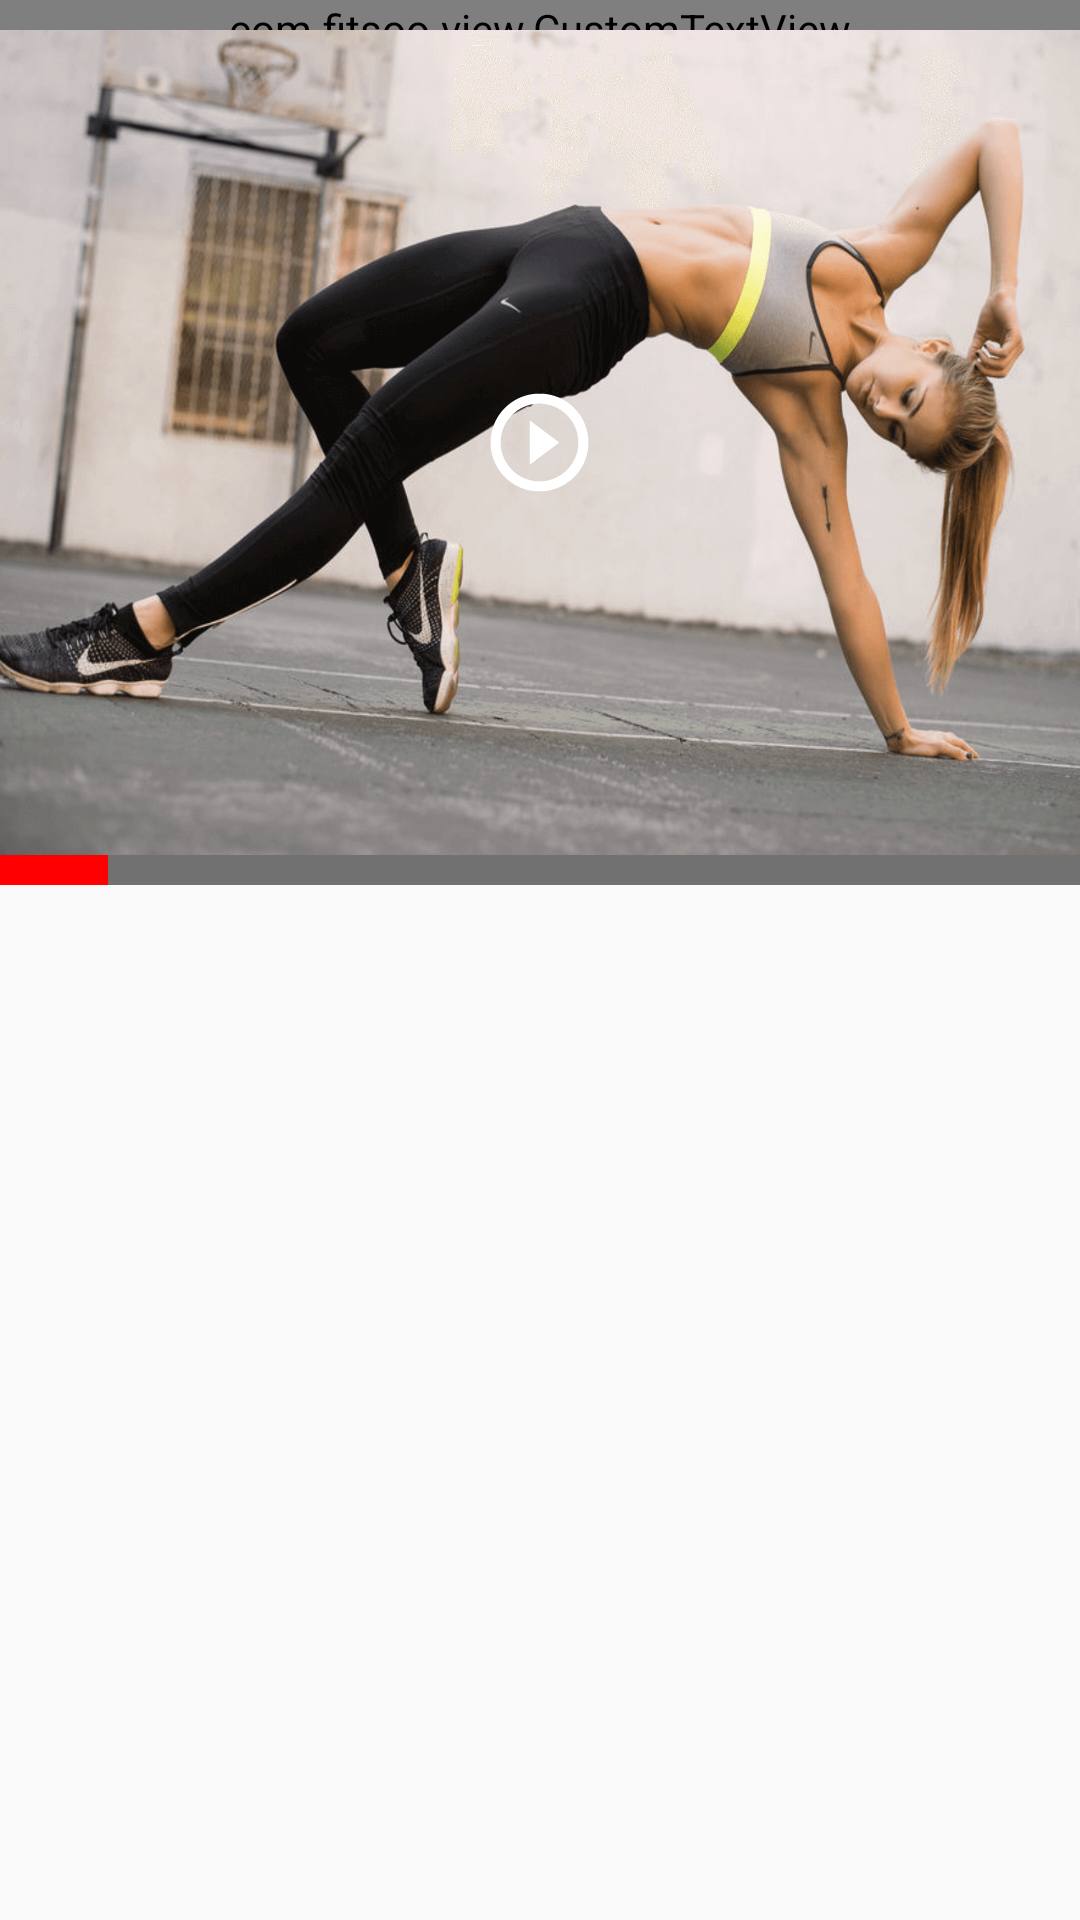

Where icons sit on this 1080*1920 app screen, as bbox=(x1, y1, x2, y2):
play circular workout: bbox=(481, 384, 596, 491)
